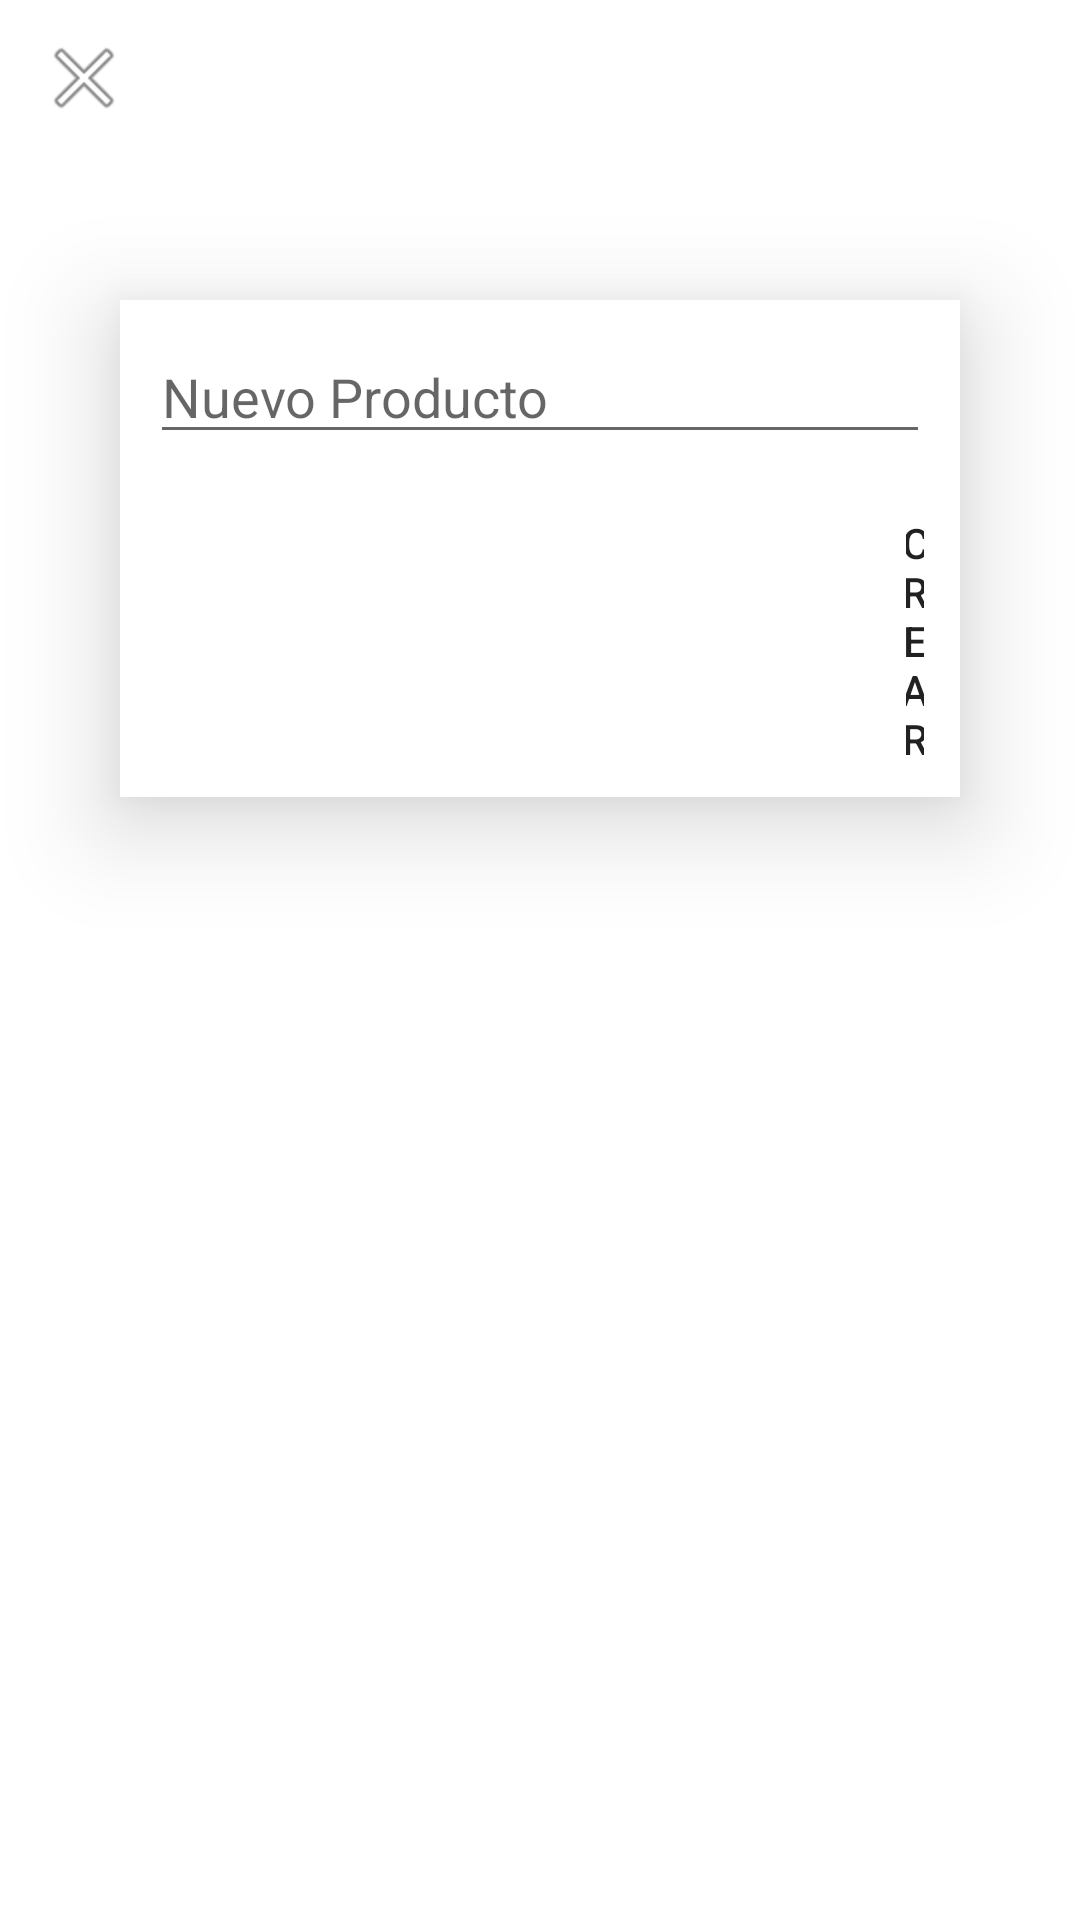

Where to tap for icons on this 1080*1920 app screen, as (x=x, y=y):
close clear cancel: (x=84, y=78)
